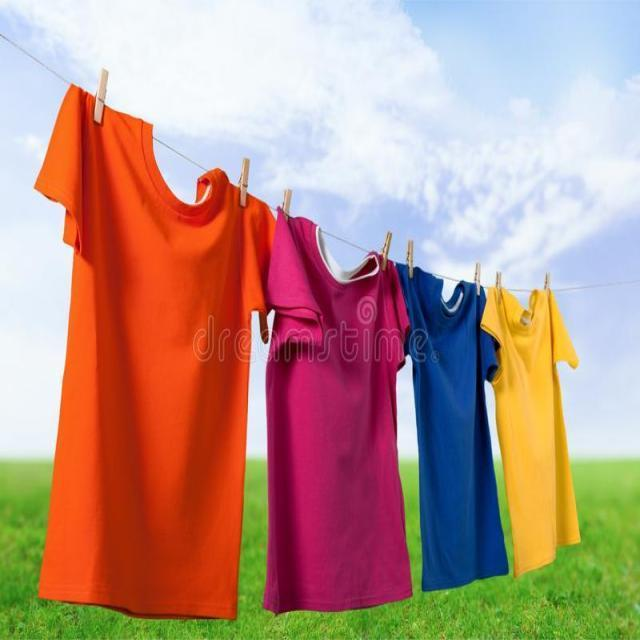clothes: (39, 56, 257, 628), (249, 186, 413, 614), (387, 239, 509, 590), (482, 267, 587, 569)
